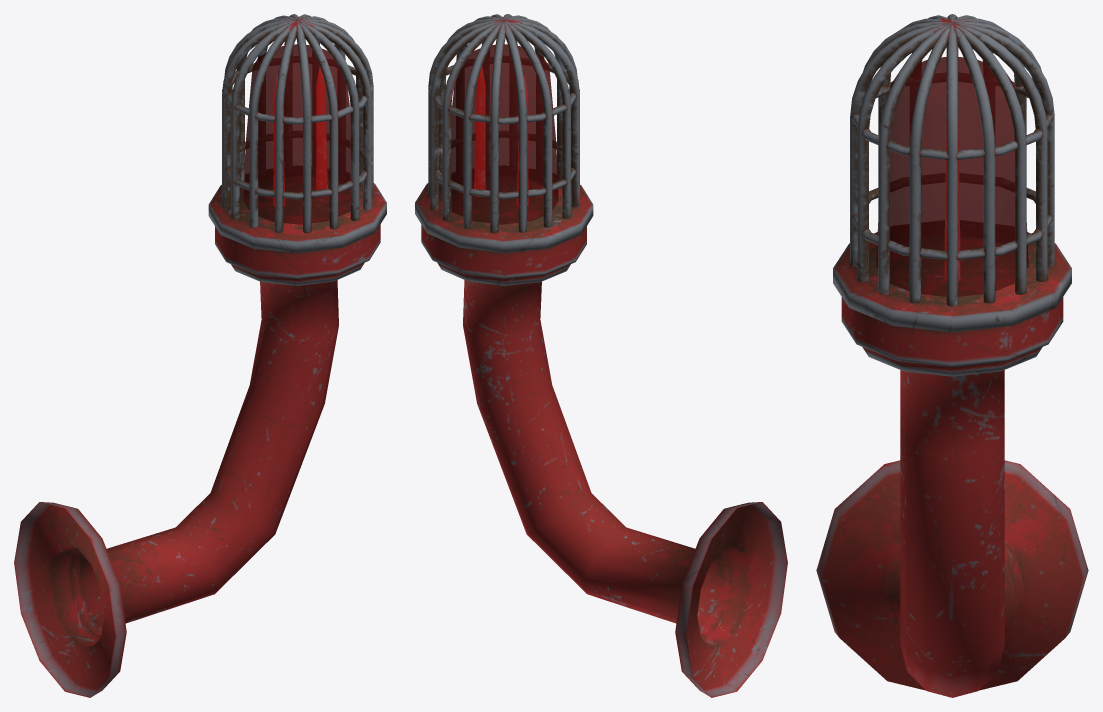
Rendered from warning_light.glb.
3 views of the same model, side by side, from view 1: azimuth 30°, elevation 25°; view 2: azimuth 150°, elevation 25°; view 3: azimuth 270°, elevation 25° (orthographic). The views are drawn at different scales.
Visible parts, largest first — view 1: pipers_old_0, grid_old_0, glasse_old_0; view 2: pipers_old_0, grid_old_0, glasse_old_0; view 3: pipers_old_0, grid_old_0, glasse_old_0.
Boxes of the visible parts, box(x1,y1,x2,y2) form: pipers_old_0: box(14, 66, 386, 697); grid_old_0: box(222, 14, 373, 233); glasse_old_0: box(243, 44, 350, 224); pipers_old_0: box(415, 66, 787, 697); grid_old_0: box(428, 14, 579, 233); glasse_old_0: box(451, 44, 558, 224); pipers_old_0: box(816, 142, 1088, 697); grid_old_0: box(850, 14, 1054, 306); glasse_old_0: box(876, 57, 1028, 296).
Size of the model in its own units: 0.3218 by 0.6093 by 0.1826.
Materials: 1 (1 with a texture image).
